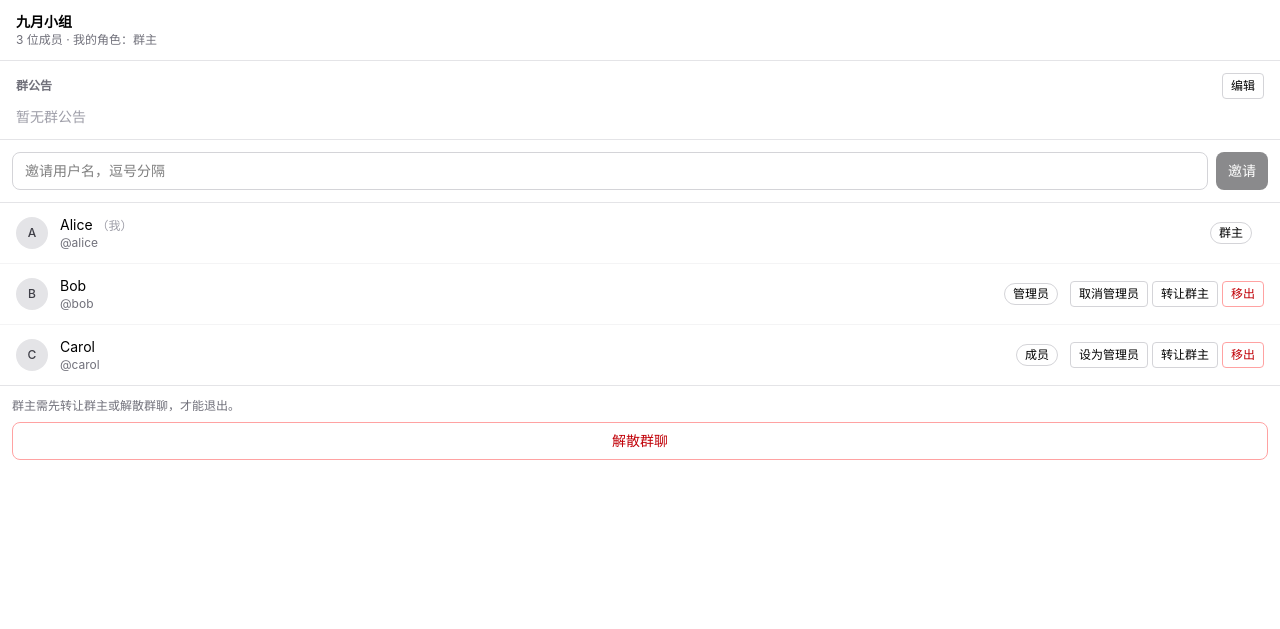
GroupInfoPanel › shows the server's message when an edit is refused
Click the button with test id "announcement-edit" at (1243, 86), box [1222, 73, 1264, 99]
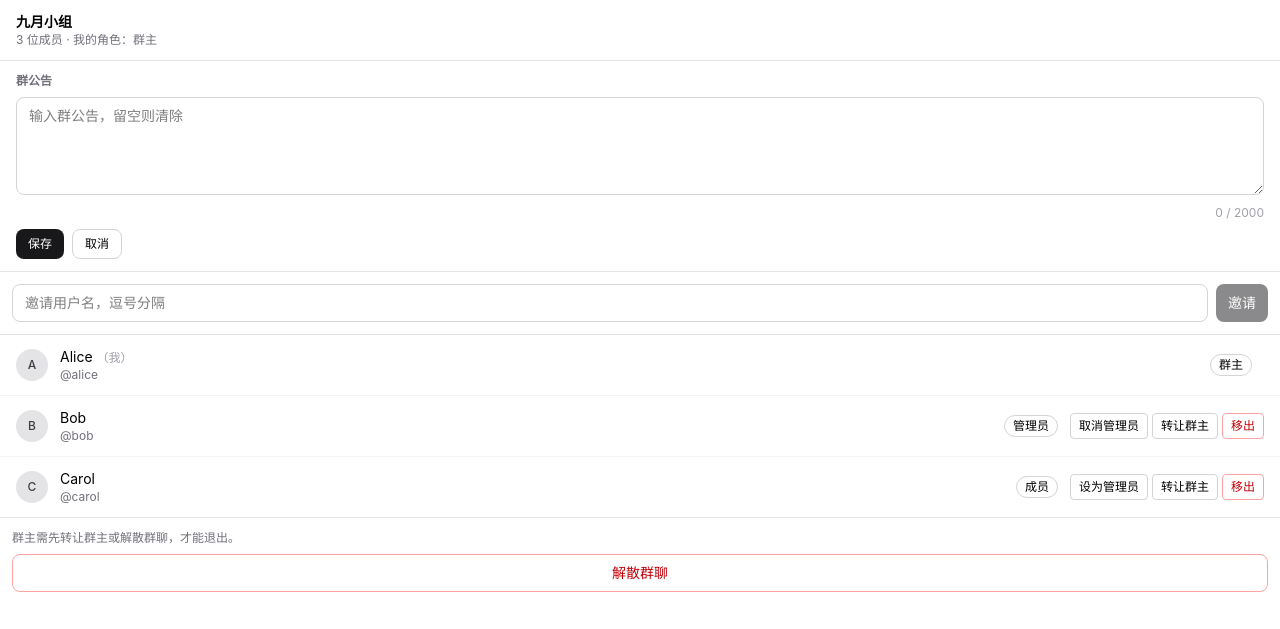
Type "不该被接受" into the text box with test id "announcement-input" at (640, 146), box [16, 97, 1264, 195]
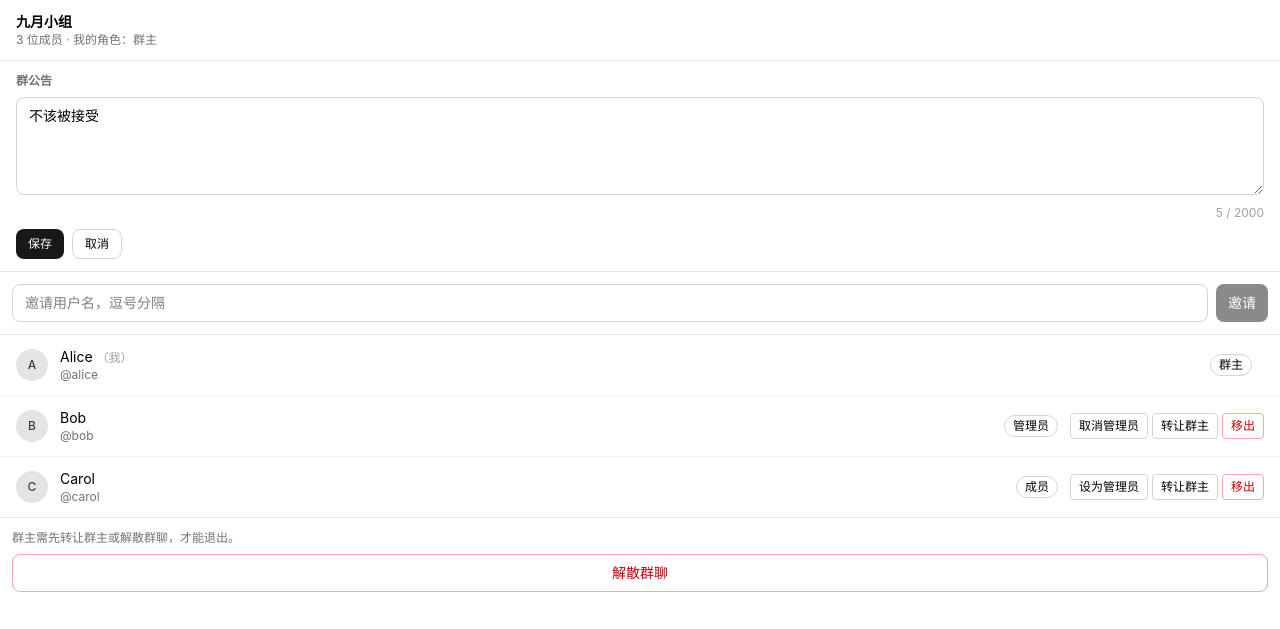
Click the button with test id "announcement-save" at (40, 244), box [16, 229, 64, 259]
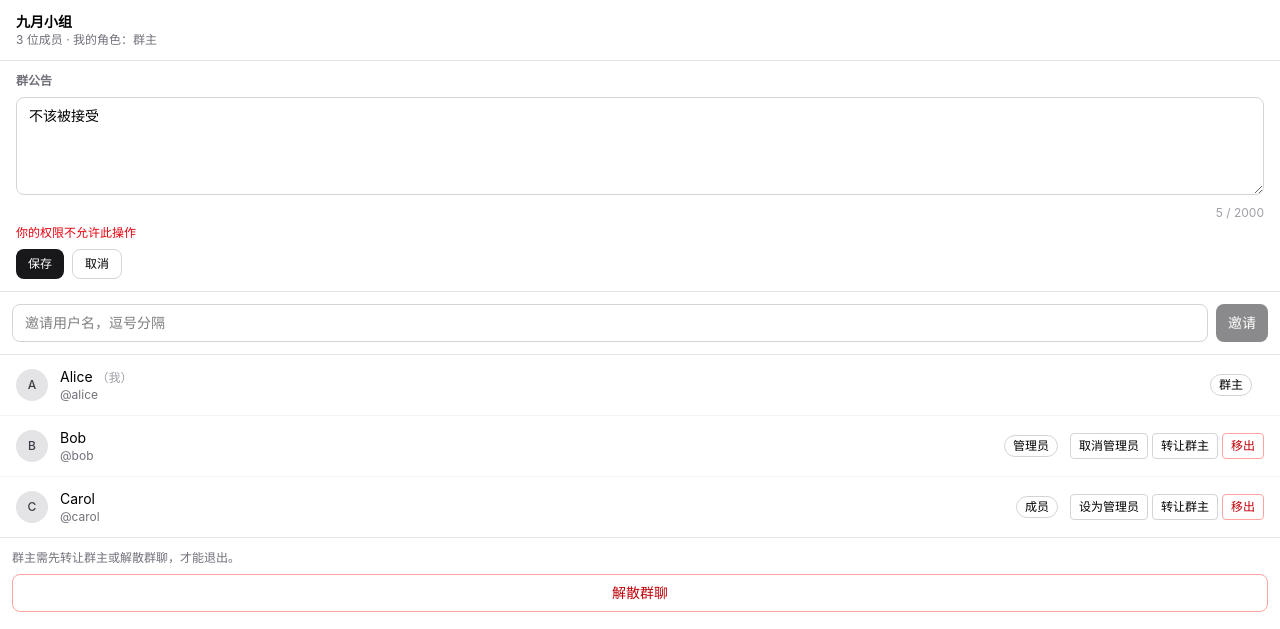
Now the text with test id "announcement-error" reads "你的权限不允许此操作", box [16, 225, 136, 240]
